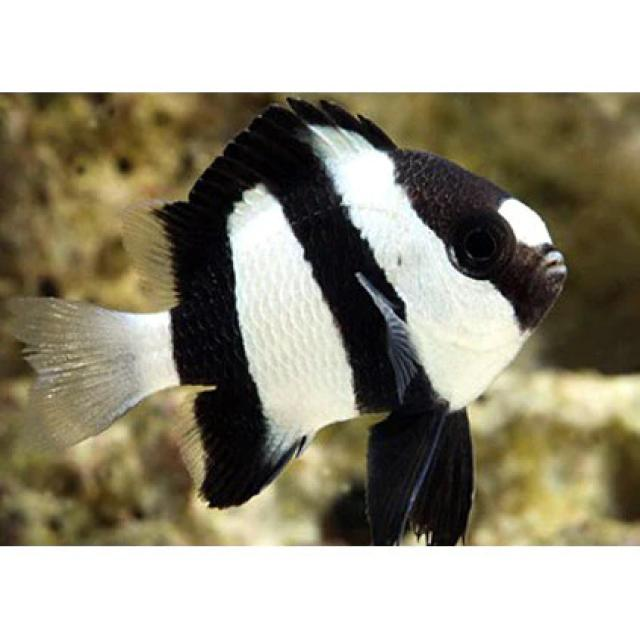ThreeStripedDamselfish: (6, 98, 577, 547)
